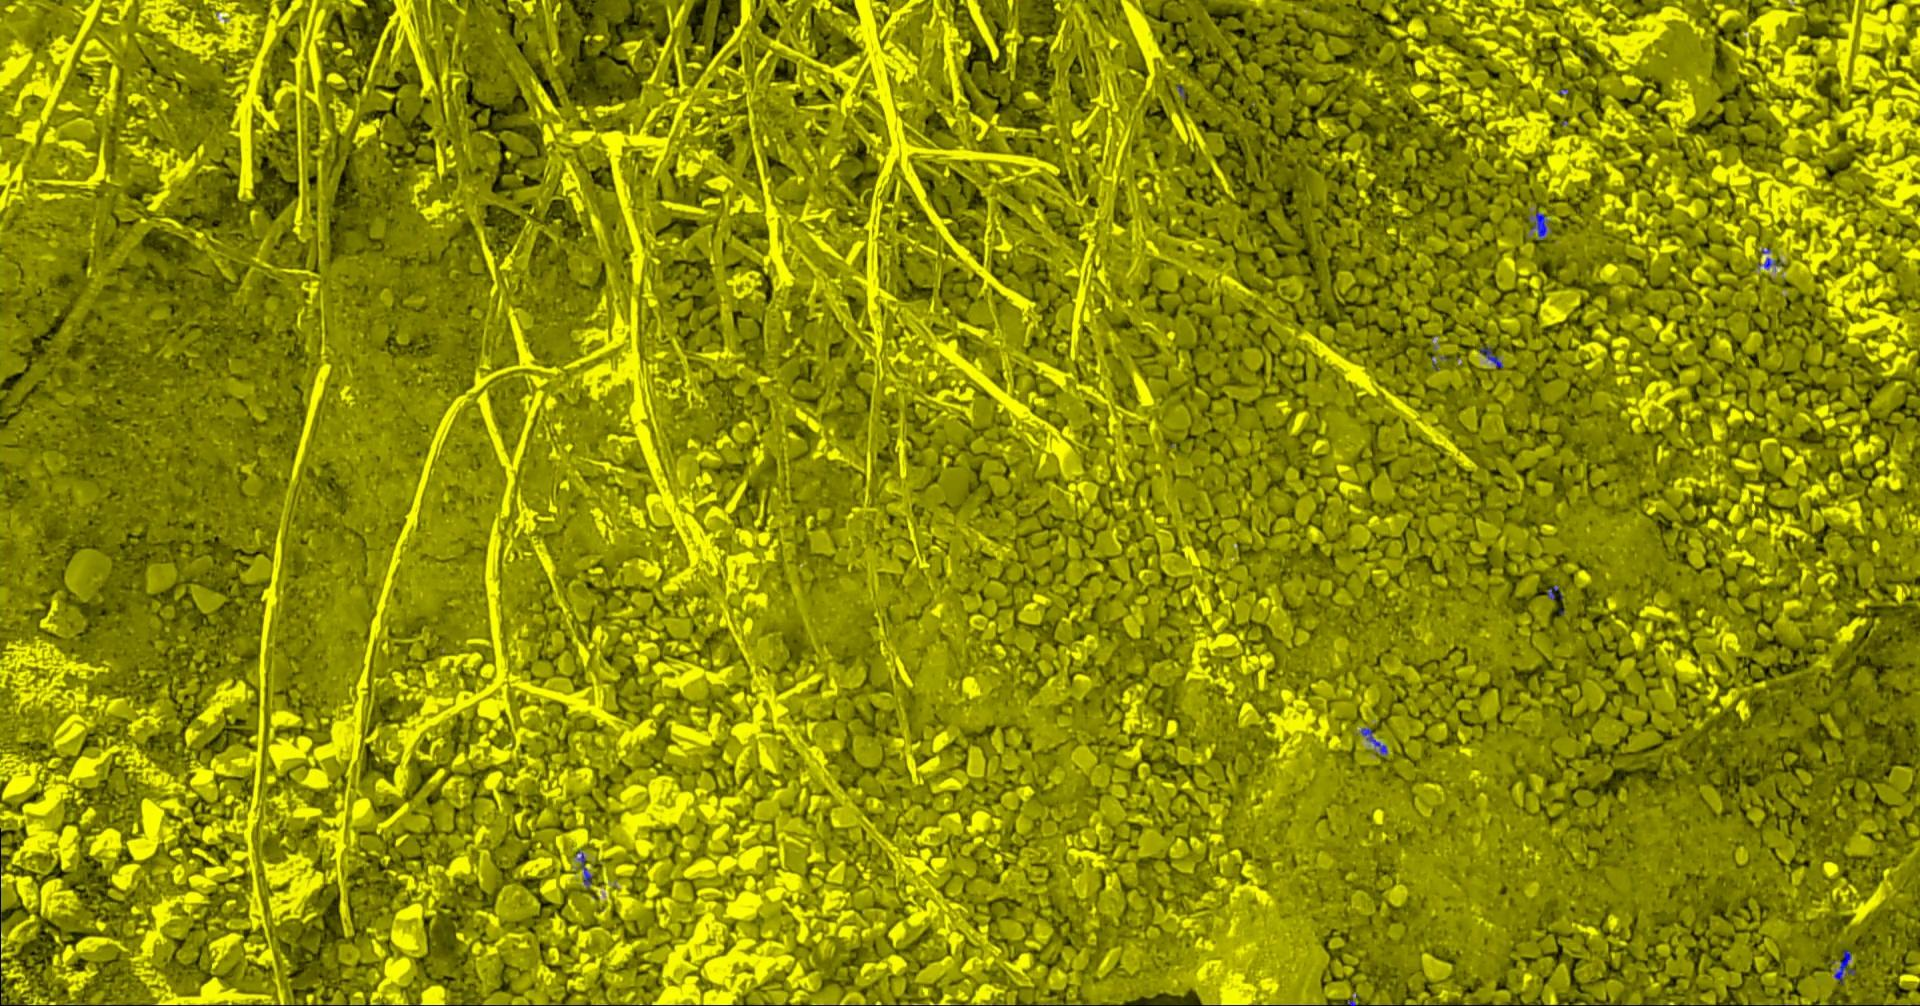ant: (1832, 949, 1855, 983), (1360, 727, 1387, 754), (575, 850, 592, 887), (1528, 211, 1549, 236), (1479, 347, 1502, 368), (1757, 257, 1780, 268), (1547, 586, 1562, 600)
